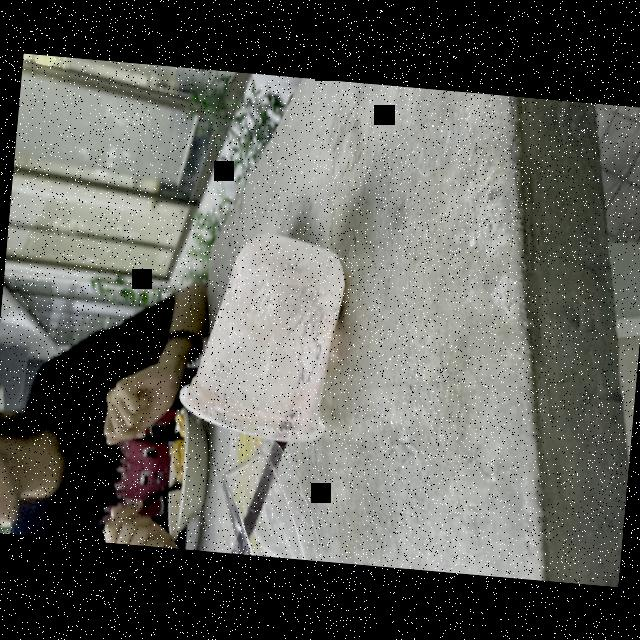plastic_cup: (165, 224, 350, 445)
plastic_cup_lid: (213, 446, 315, 560)
straw: (222, 408, 297, 556)
